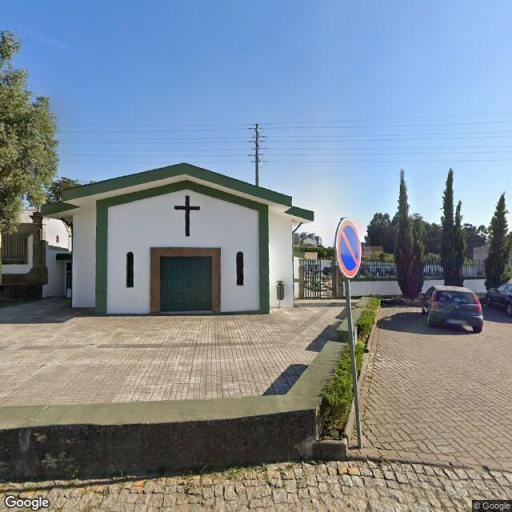mono_9: (247, 121, 268, 186)
